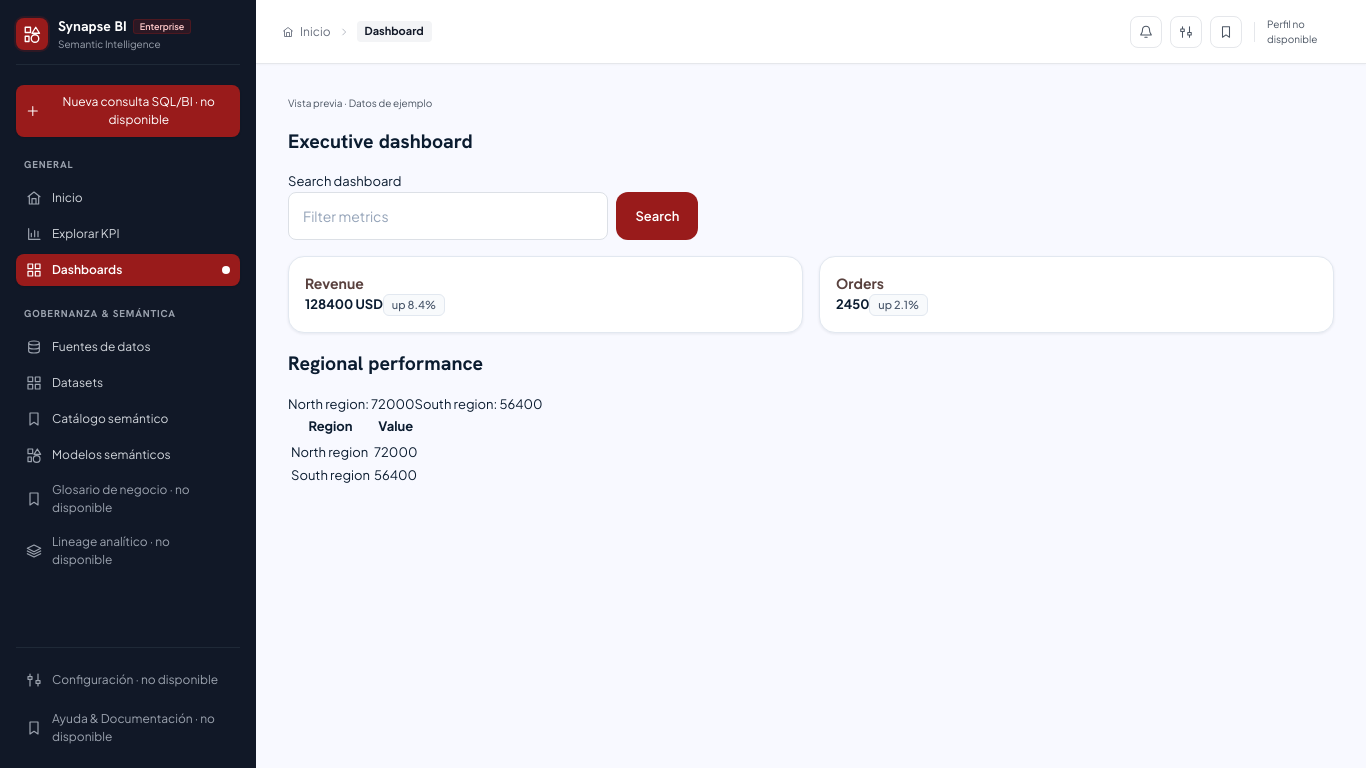
Test: DashboardPage › filters regional results and exposes an empty state
Expected: the heading "Executive dashboard" is shown, [288,128,473,154]
In the field labelled "Search dashboard": (448, 216) [288,192,608,240], type "missing"
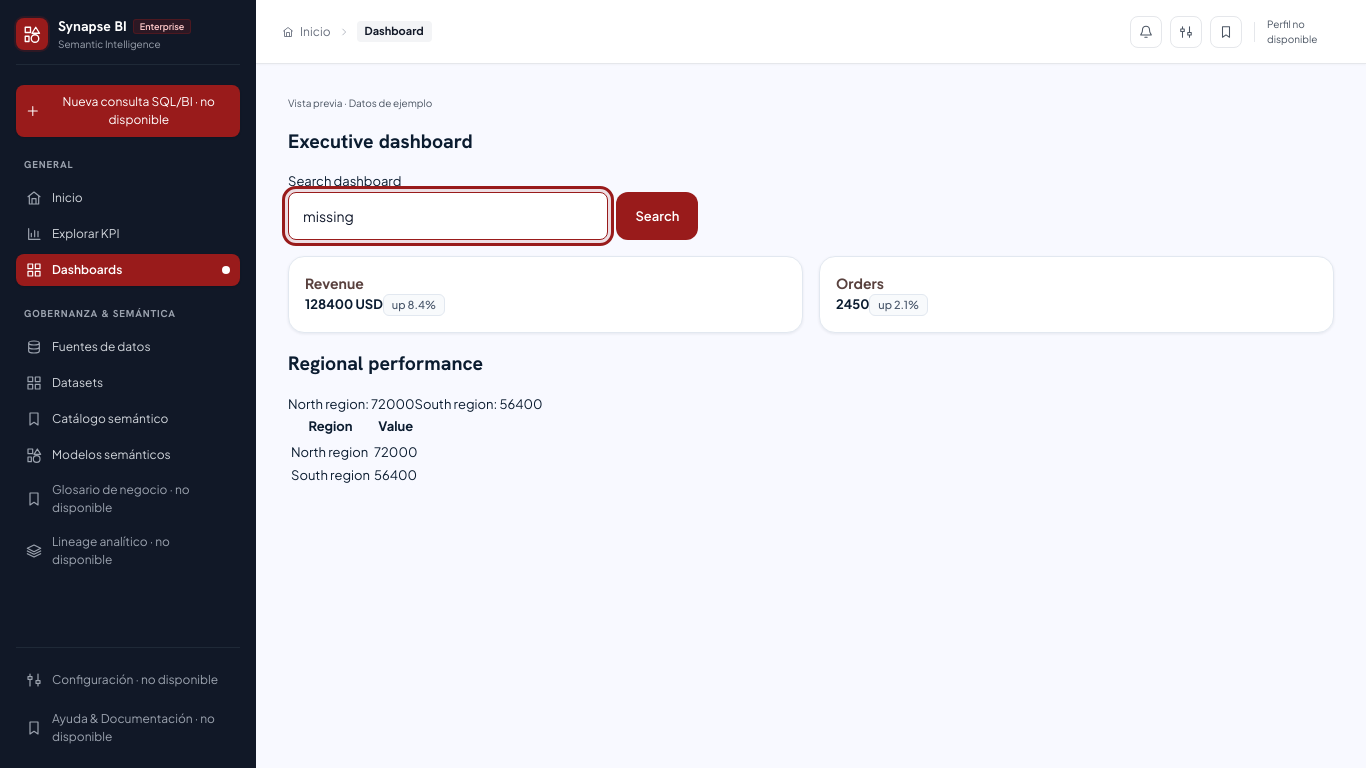
Click the button "Search": (657, 216) [616,192,698,240]
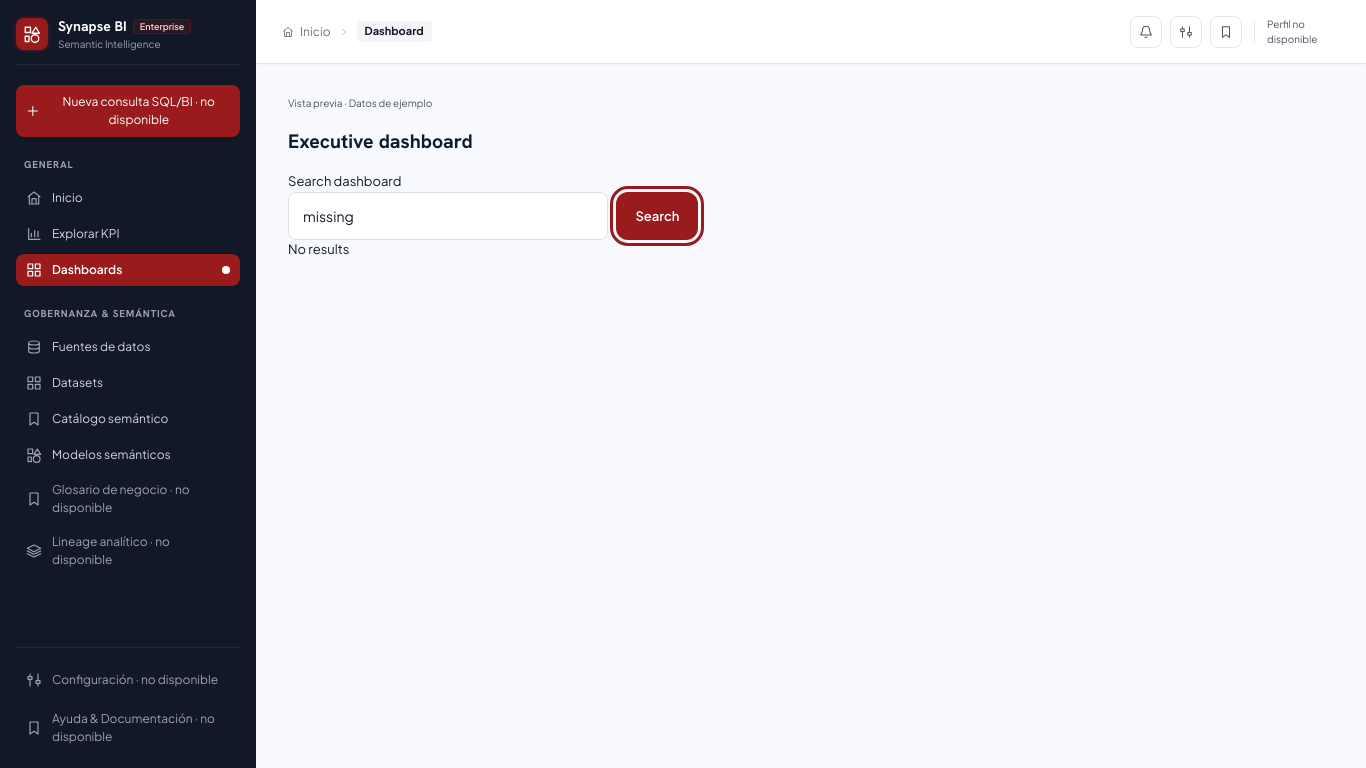
Expected: the text "No results" is shown, [288,241,349,257]
